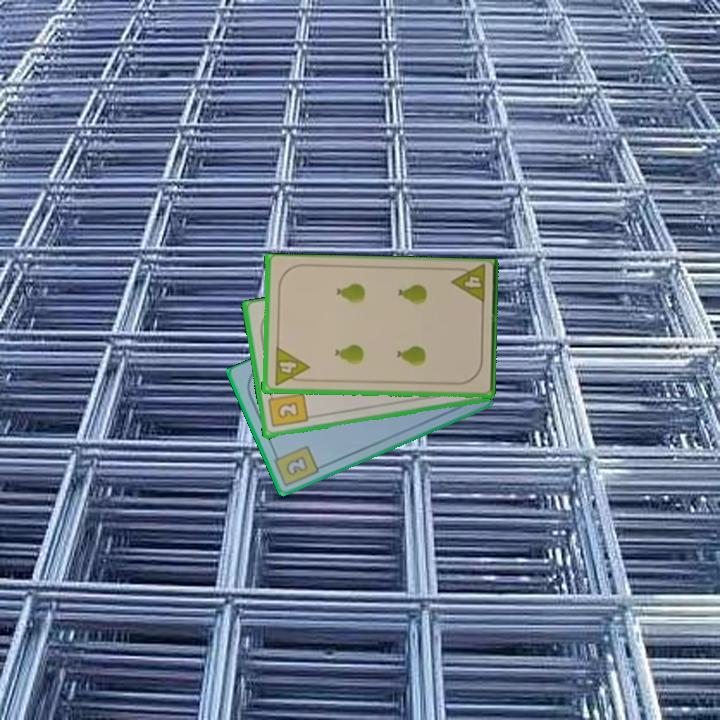2b: (269, 442, 322, 489), (264, 388, 310, 430)
4p: (270, 344, 311, 389), (448, 263, 488, 308)
